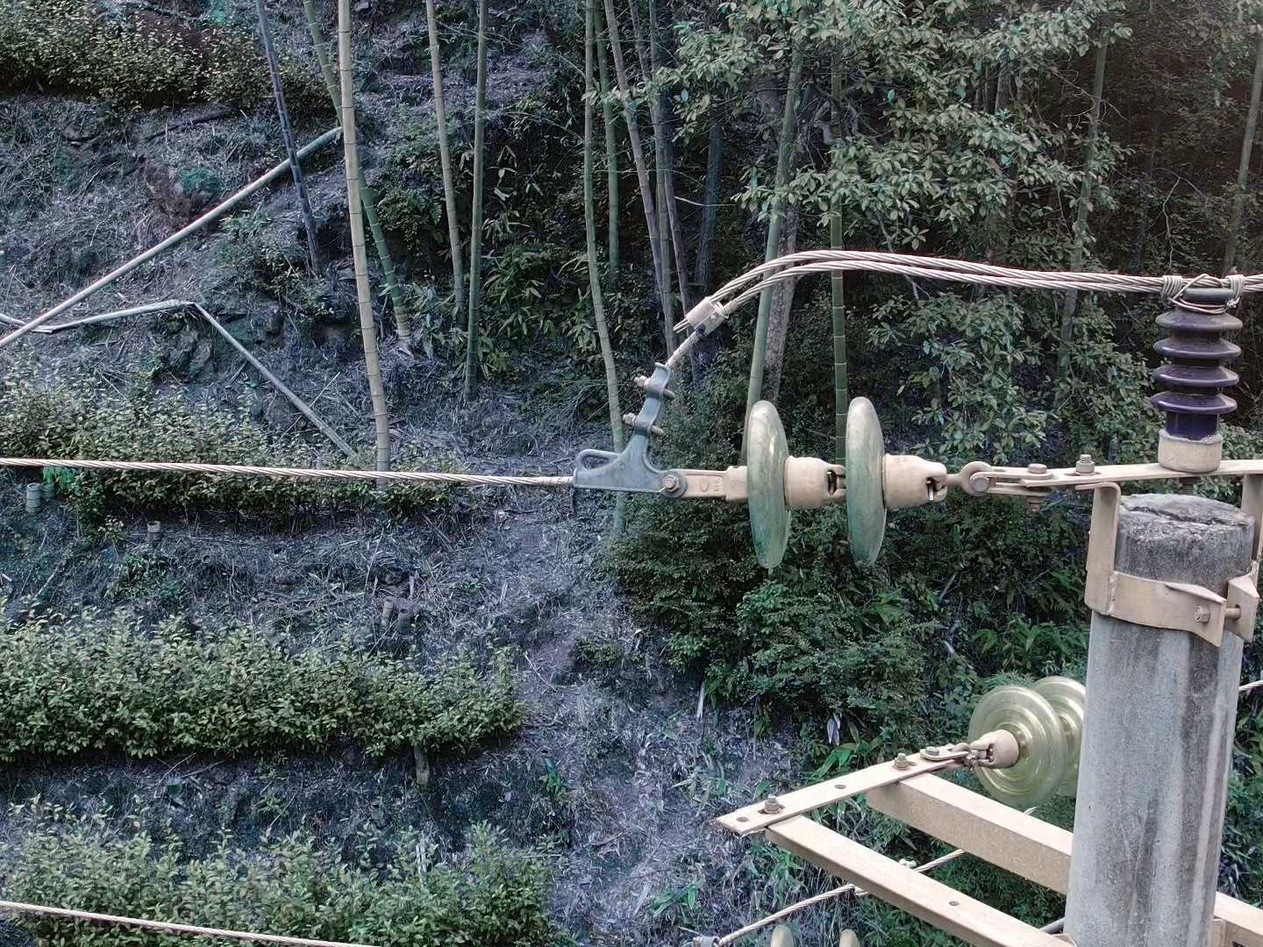severe_soiling_no_discharge_whole: (730, 386, 955, 585)
